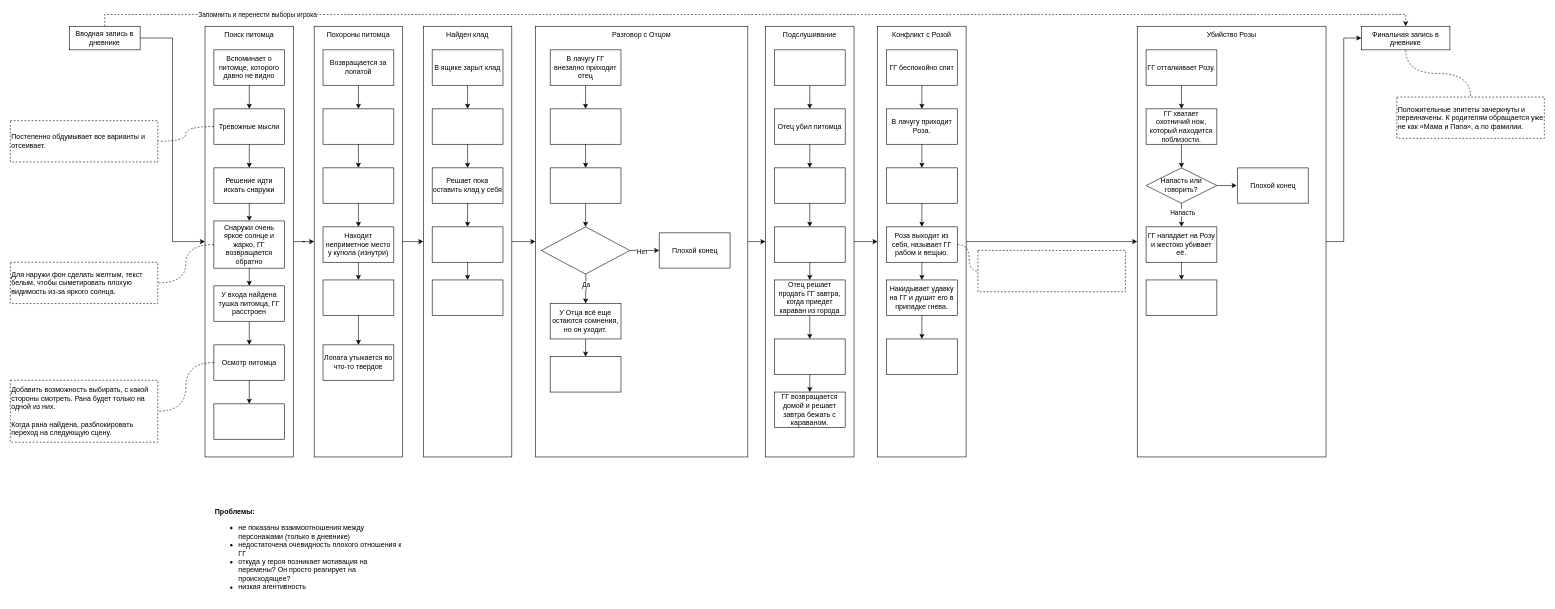
The diagram is 1555 pixels wide and 609 high, and some of its shapes have lost their labels. The centre of each missing label's shape, as x and y in pixels:
"?Питомца хоронит в выкопанной яме?" goes at (x=467, y=244).
"Возвращается домой и с трудом засыпает" goes at (x=467, y=297).
"ГГ ищет подходящее место" goes at (x=358, y=126).
"ГГ осознаёт, что натворил. Решает скрыться уже сейчас." goes at (x=1181, y=297).
"ГГ пытается с ней говорить." goes at (x=921, y=185).
"ГГ решает следовать за ним в дом." goes at (x=585, y=374).
"ГГ убеждает отца в невиновности" goes at (x=585, y=250).
"Где-то грубая земля, где-то наоборот подтекает" goes at (x=358, y=185).
"Героей узнаёт, что ему не поверили" goes at (x=809, y=67).
"Герой мечтает, что можно сделать с этими деньгами" goes at (x=467, y=126).
"Деньги нужны для возврата долга, заработаны работорговлей" goes at (x=809, y=185).
"Когда ГГ почти теряет сознание, Роза сравает с него маску." goes at (x=921, y=356).
"Копает, копает, копает…" goes at (x=358, y=297).
"Мать ссорится с отцом." goes at (x=809, y=244).
"Найдена дырка от лазера, ГГ расстроен" goes at (x=249, y=421).
"Отец никогда раньше не приходил сюда. Отец встревожен." goes at (x=585, y=126).
"Отец подозревает, что ГГ взял клад, начинает его распрашивать." goes at (x=585, y=185).
"Роза закатывает истерику, потому что ГГ должен был быть её личным рабом." goes at (x=809, y=356).
"Цвет её текста метяется с розового (#ff3399) на красный (#ff0000)" goes at (x=1051, y=271).
